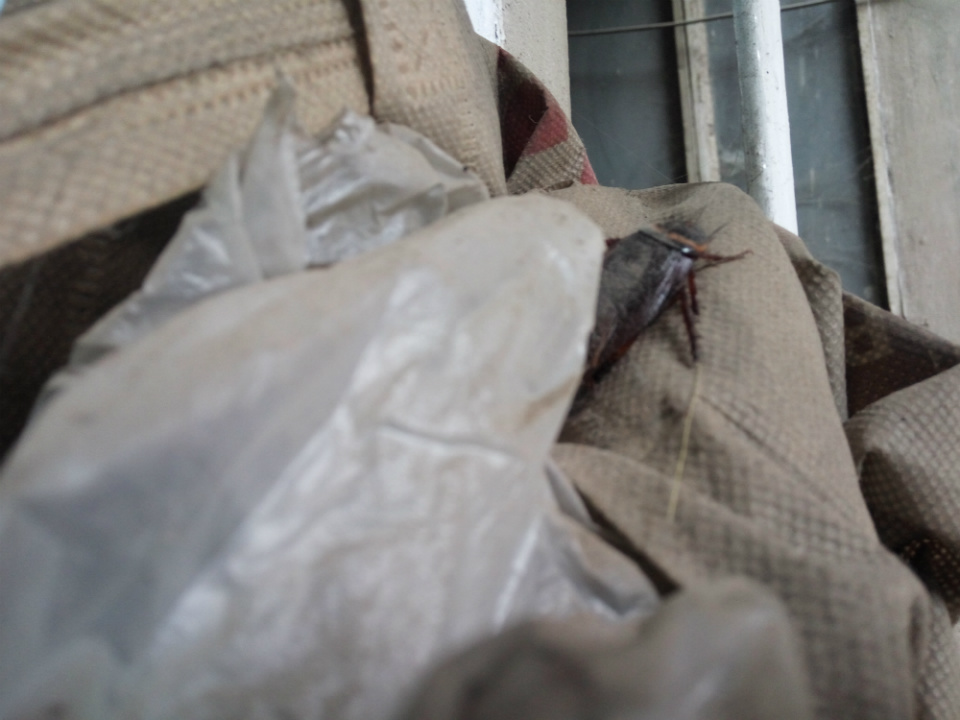cockroach: (598, 214, 740, 390)
